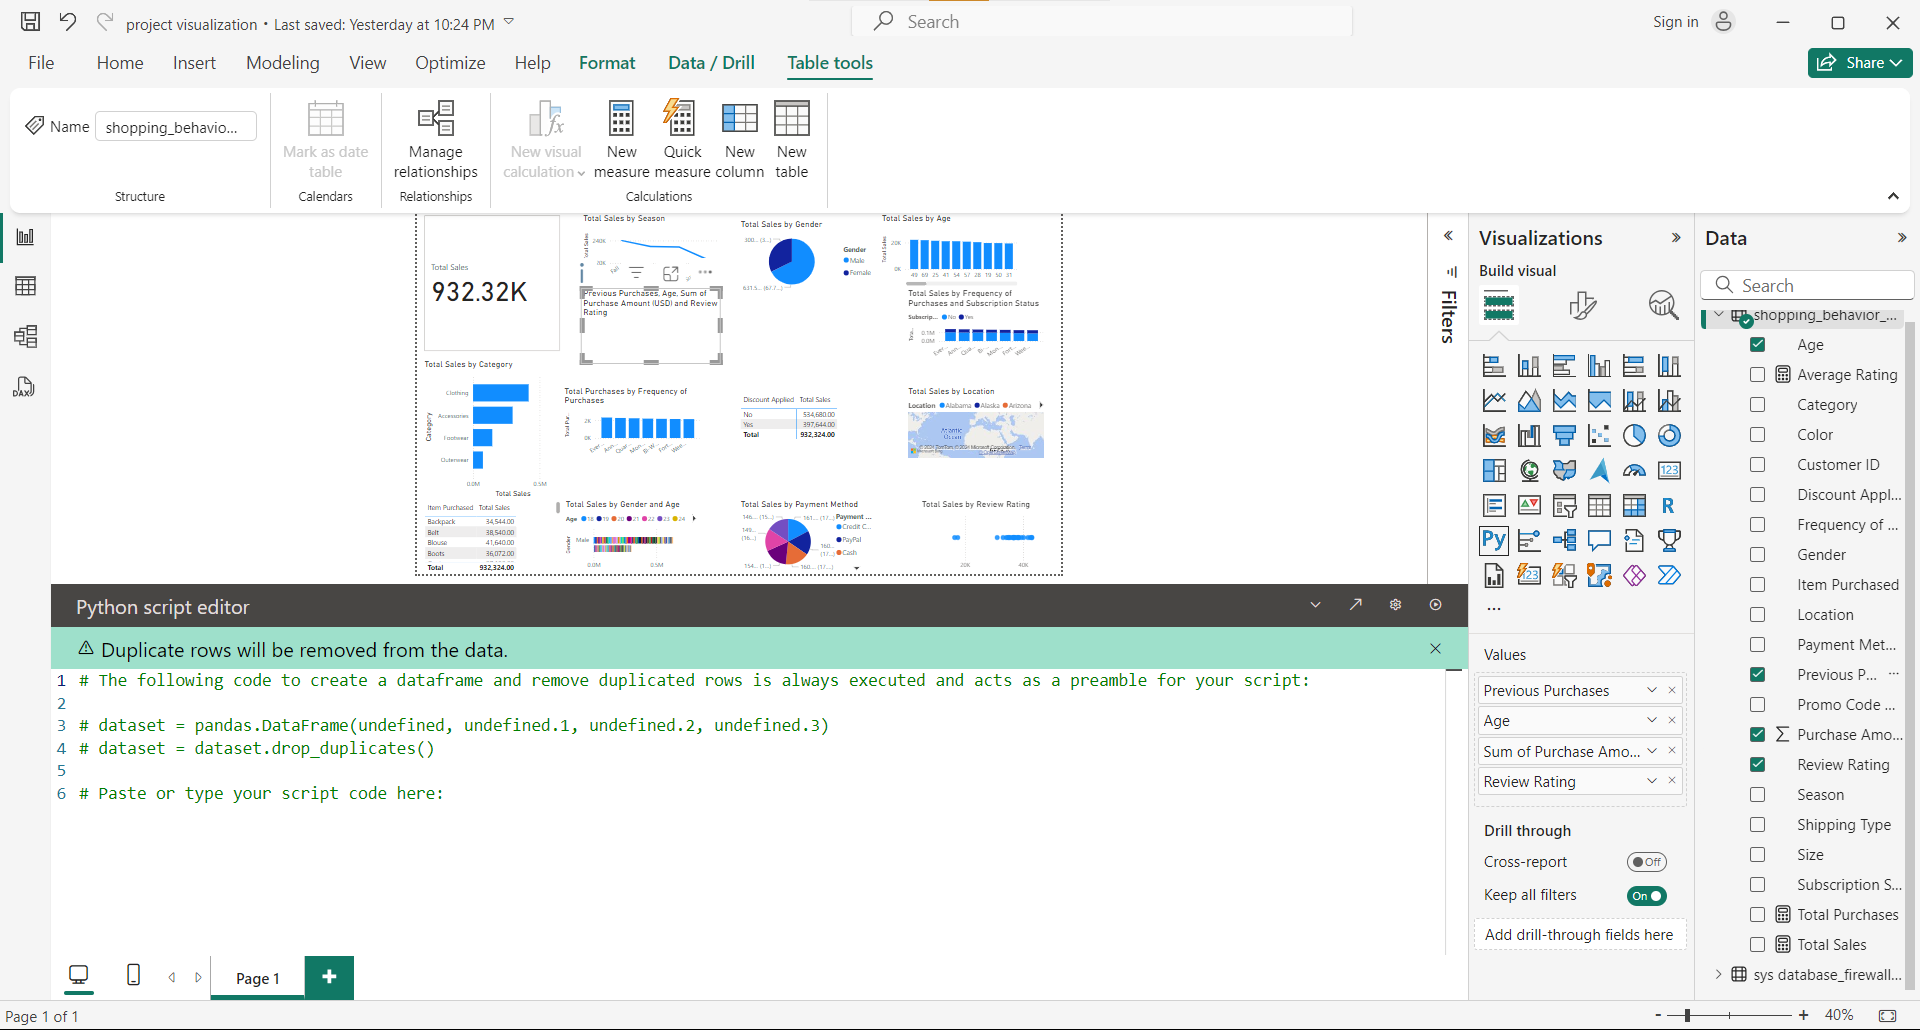

The page's visual inventory and layout, read from the dashboard file:
{"tool":"powerbi","page":{"name":"Page 1","canvas":[1280,720],"ordinal":0},"visuals":[{"type":"cardVisual","fields":{"Data":["shopping_behavior_updated.Total Sales"]},"box":[10,0,280,280],"z":0},{"type":"barChart","fields":{"Category":["shopping_behavior_updated.Category"],"Y":["shopping_behavior_updated.Total Sales"]},"box":[10,290,280,280],"z":1000},{"type":"lineChart","fields":{"Category":["shopping_behavior_updated.Season"],"Y":["shopping_behavior_updated.Total Sales"]},"box":[325.2,0,279.8,149.7],"z":2000},{"type":"pieChart","fields":{"Category":["shopping_behavior_updated.Gender"],"Y":["shopping_behavior_updated.Total Sales"]},"box":[640.5,13.5,279.8,149.7],"z":3000},{"type":"columnChart","fields":{"Y":["shopping_behavior_updated.Total Sales"],"Category":["shopping_behavior_updated.Age"]},"box":[920.3,0,279.8,149.7],"z":4000},{"type":"columnChart","fields":{"Category":["shopping_behavior_updated.Frequency of Purchases"],"Y":["shopping_behavior_updated.Total Purchases"]},"box":[289.6,342.3,279.8,149.7],"z":5000},{"type":"pivotTable","fields":{"Rows":["shopping_behavior_updated.Discount Applied"],"Values":["shopping_behavior_updated.Total Sales"]},"box":[640.5,354.6,279.8,149.7],"z":6000},{"type":"map","fields":{"Series":["shopping_behavior_updated.Location"],"Size":["shopping_behavior_updated.Total Sales"]},"box":[971.8,342.3,279.8,149.7],"z":7000},{"type":"tableEx","fields":{"Values":["shopping_behavior_updated.Item Purchased","shopping_behavior_updated.Total Sales"]},"box":[10,570,280,150],"z":8000},{"type":"barChart","fields":{"Y":["shopping_behavior_updated.Total Sales"],"Category":["shopping_behavior_updated.Gender"],"Series":["shopping_behavior_updated.Age"]},"box":[290,570,280,150],"z":9000},{"type":"pieChart","fields":{"Y":["shopping_behavior_updated.Total Sales"],"Category":["shopping_behavior_updated.Payment Method"]},"box":[640,570,280,150],"z":10000},{"type":"scatterChart","fields":{"Category":["shopping_behavior_updated.Review Rating"],"X":["shopping_behavior_updated.Total Sales"]},"box":[1000,570.6,279.8,149.7],"z":11000},{"type":"columnChart","fields":{"Category":["shopping_behavior_updated.Frequency of Purchases"],"Series":["shopping_behavior_updated.Subscription Status"],"Y":["shopping_behavior_updated.Total Sales"]},"box":[971.8,149.7,279.8,149.7],"z":12000}]}

Visuals, with their boxes on the page's 1280x720 design canvas (x1, y1, x2, y2). These are canvas units, not pixel positions in the 1920x1030 screenshot, which may show the page scaled, cropped or inside an application window:
cardVisual - shopping_behavior_updated.Total Sales: region(10, 0, 290, 280)
barChart - shopping_behavior_updated.Category x shopping_behavior_updated.Total Sales: region(10, 290, 290, 570)
lineChart - shopping_behavior_updated.Season x shopping_behavior_updated.Total Sales: region(325, 0, 605, 150)
pieChart - shopping_behavior_updated.Gender x shopping_behavior_updated.Total Sales: region(640, 14, 920, 163)
columnChart - shopping_behavior_updated.Total Sales x shopping_behavior_updated.Age: region(920, 0, 1200, 150)
columnChart - shopping_behavior_updated.Frequency of Purchases x shopping_behavior_updated.Total Purchases: region(290, 342, 569, 492)
pivotTable - shopping_behavior_updated.Discount Applied x shopping_behavior_updated.Total Sales: region(640, 355, 920, 504)
map - shopping_behavior_updated.Location x shopping_behavior_updated.Total Sales: region(972, 342, 1252, 492)
tableEx - shopping_behavior_updated.Item Purchased x shopping_behavior_updated.Total Sales: region(10, 570, 290, 720)
barChart - shopping_behavior_updated.Total Sales x shopping_behavior_updated.Gender: region(290, 570, 570, 720)
pieChart - shopping_behavior_updated.Total Sales x shopping_behavior_updated.Payment Method: region(640, 570, 920, 720)
scatterChart - shopping_behavior_updated.Review Rating x shopping_behavior_updated.Total Sales: region(1000, 571, 1280, 720)
columnChart - shopping_behavior_updated.Frequency of Purchases x shopping_behavior_updated.Subscription Status: region(972, 150, 1252, 299)
